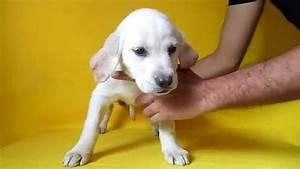dog: (62, 7, 199, 167)
